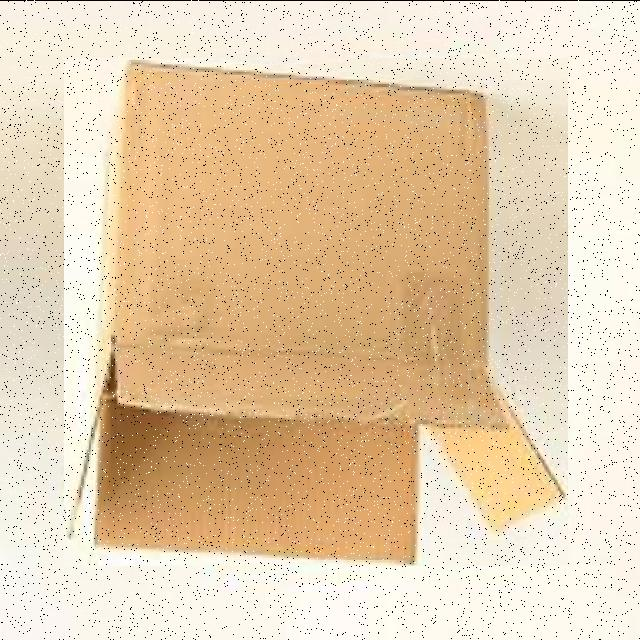defect: (64, 57, 568, 565)
